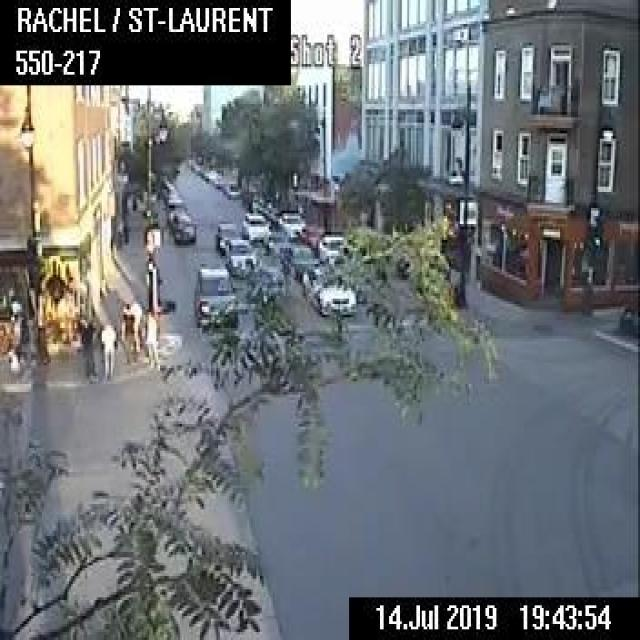pedestrian: (78, 315, 95, 376), (143, 307, 160, 367), (98, 319, 115, 379), (120, 302, 134, 361), (130, 295, 142, 358), (122, 218, 128, 246), (129, 192, 137, 211)
vehicle: (300, 263, 356, 315), (191, 267, 235, 323), (280, 243, 318, 278), (225, 237, 256, 274), (317, 230, 348, 264), (213, 219, 240, 252), (170, 209, 195, 243), (240, 212, 270, 240), (277, 210, 306, 238), (618, 299, 638, 333)
